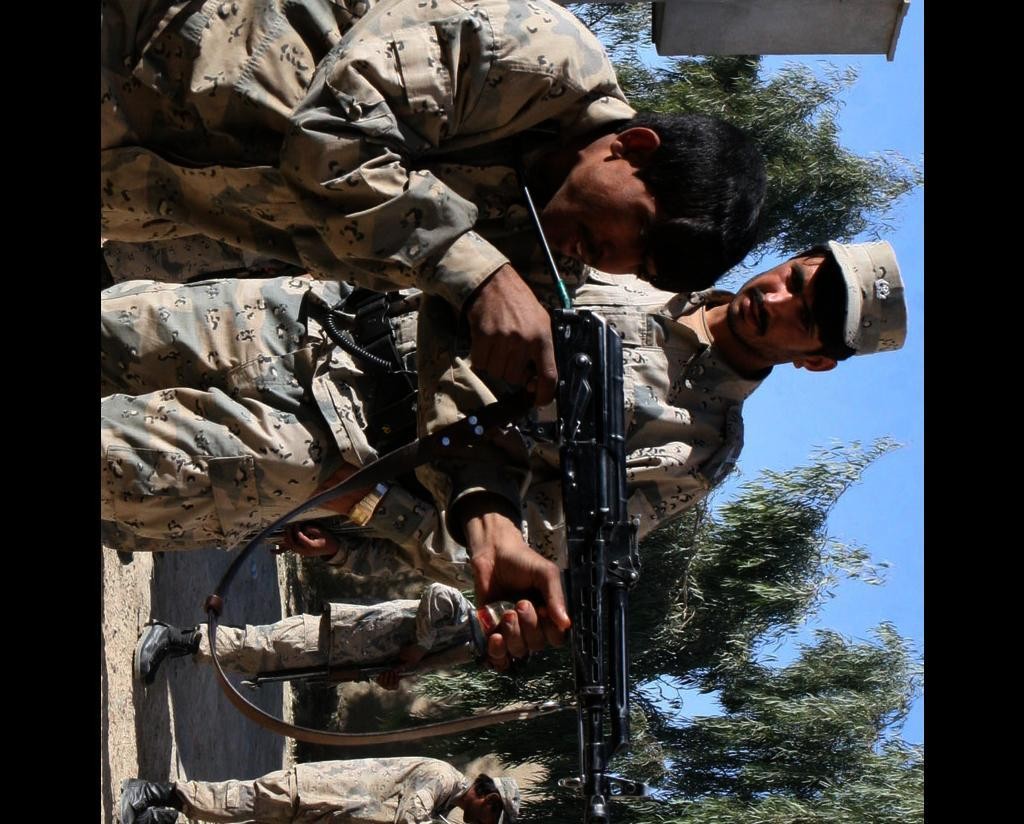gun: (476, 190, 634, 824), (254, 641, 474, 688)
